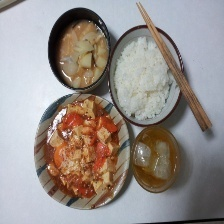sabzi: (49, 17, 110, 90)
